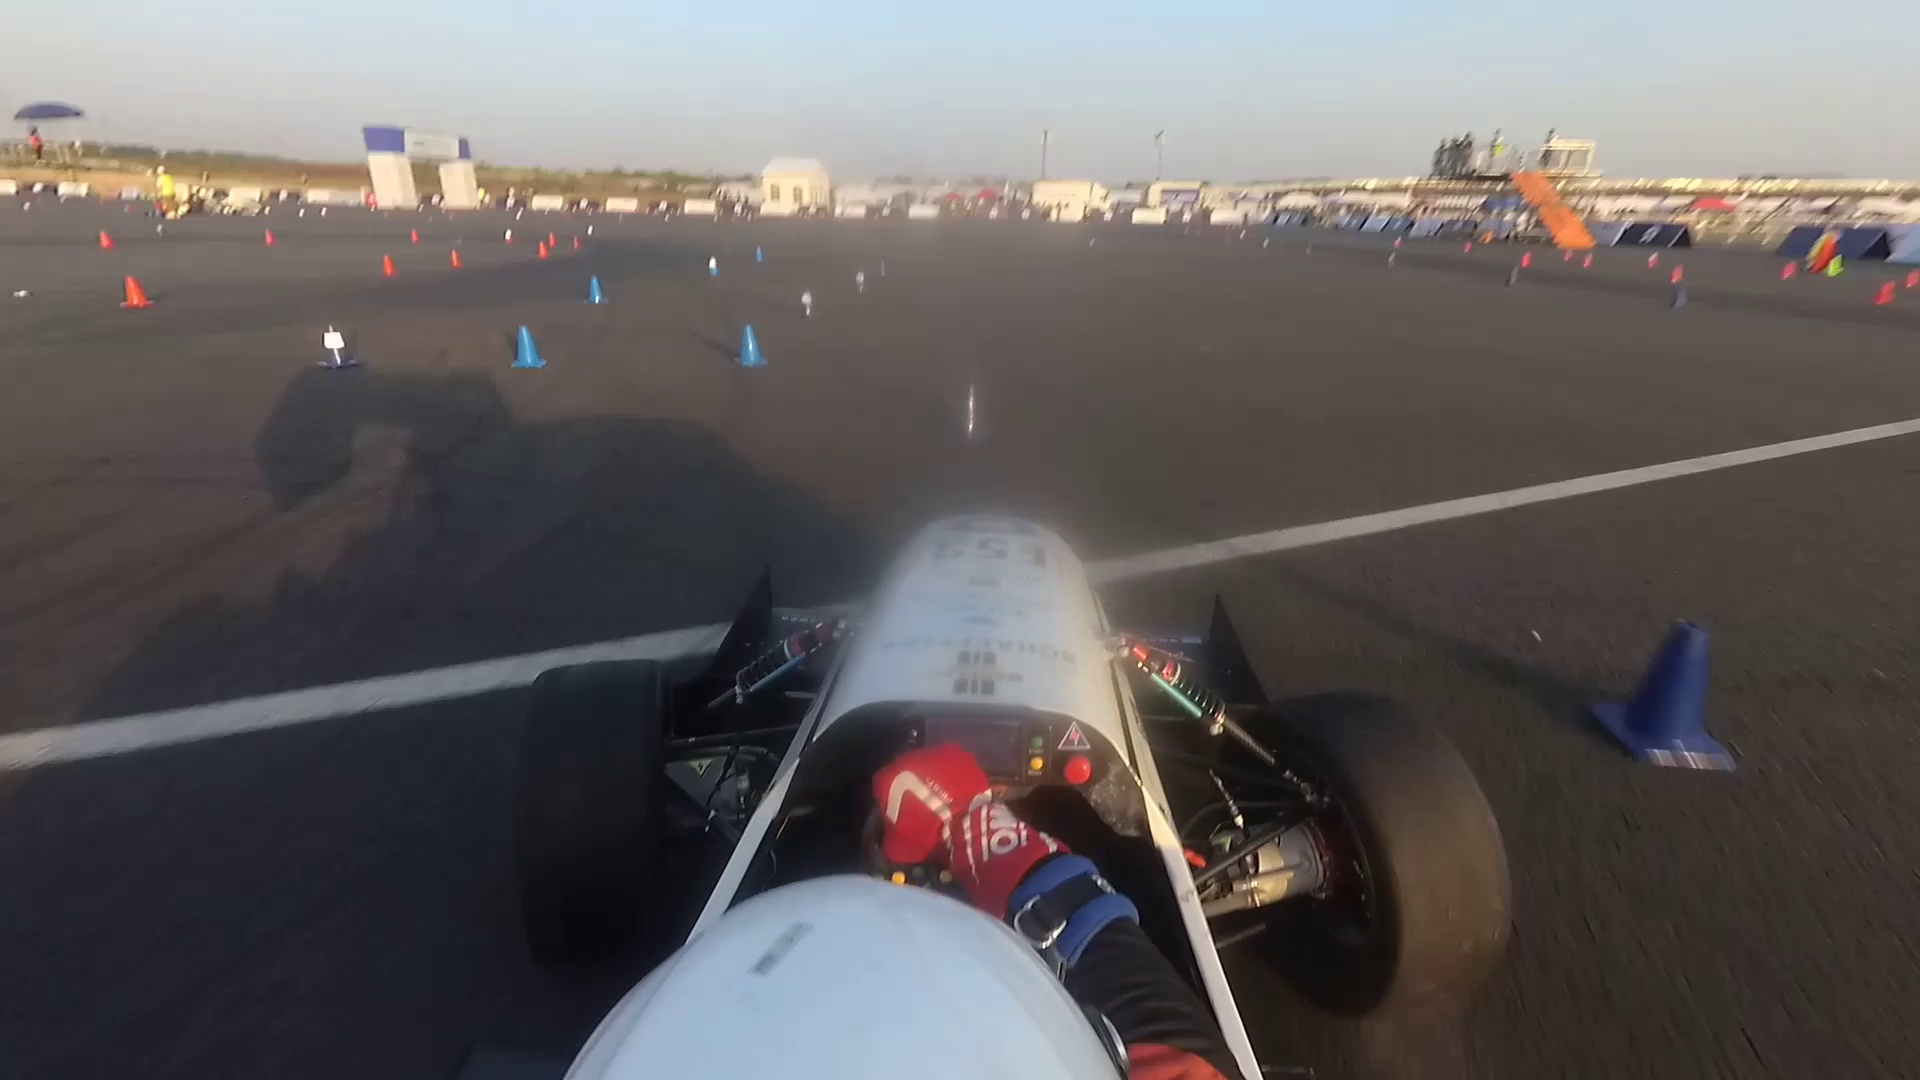blue_cone: (1597, 618, 1735, 786), (944, 384, 996, 444), (727, 326, 767, 371), (315, 324, 353, 368), (510, 324, 543, 367), (584, 278, 605, 306), (1503, 266, 1524, 291), (799, 287, 815, 319), (704, 255, 723, 277), (855, 270, 869, 294), (1673, 289, 1693, 306), (877, 260, 887, 276), (756, 247, 764, 262)
red_cone: (116, 276, 152, 310), (1876, 282, 1898, 305), (378, 255, 397, 277), (533, 237, 551, 260), (95, 229, 112, 249), (1669, 262, 1685, 282), (1648, 251, 1663, 272), (446, 251, 462, 269), (260, 229, 276, 248), (1778, 261, 1793, 280), (407, 225, 421, 245), (543, 232, 556, 251), (504, 229, 516, 247), (568, 233, 580, 251), (1522, 251, 1531, 268), (1907, 269, 1917, 284), (1582, 255, 1592, 269)
